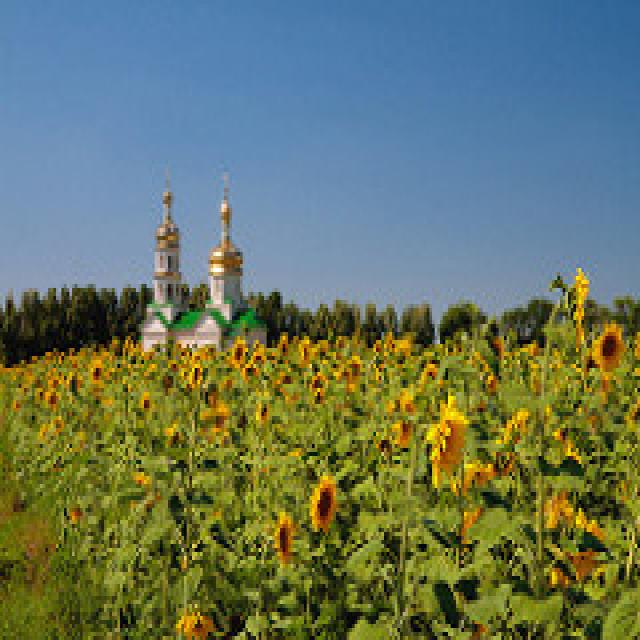sunflower: (422, 400, 470, 500), (305, 468, 343, 536), (589, 320, 627, 376), (268, 506, 295, 570), (228, 334, 247, 370)
